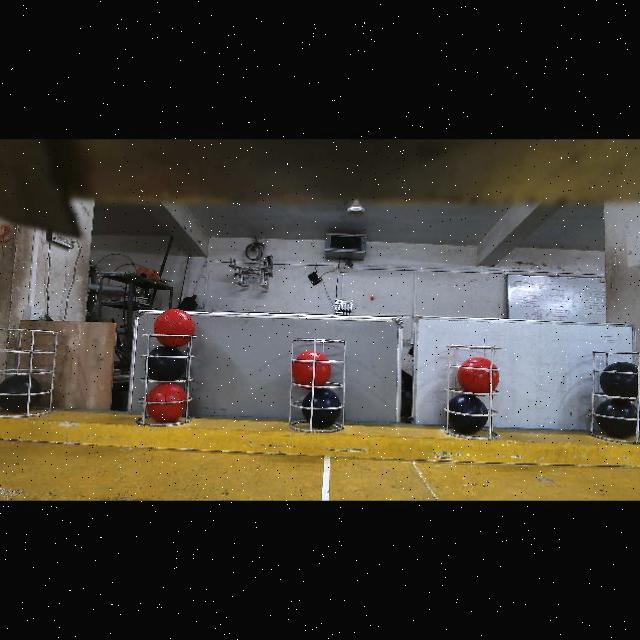P: (595, 399, 637, 439), (449, 395, 488, 435), (302, 389, 341, 429), (0, 376, 42, 413), (145, 346, 186, 382), (600, 362, 638, 398)
R: (153, 310, 195, 348), (457, 358, 499, 394), (148, 384, 186, 423), (292, 352, 331, 386)
S: (132, 326, 204, 434), (280, 332, 344, 436), (438, 343, 498, 441), (0, 325, 56, 413), (588, 346, 640, 436)
